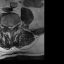CCS_severe_stenosis: (10, 23, 12, 32)
LFS_normal: (13, 22, 16, 30)
LLS_normal: (12, 23, 14, 31)
RFS_normal: (6, 22, 8, 29)
RLS_normal: (8, 23, 10, 31)
